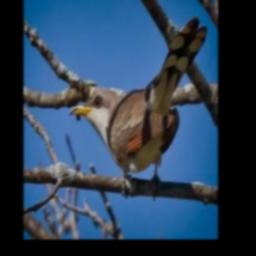Cuckoo: (69, 17, 207, 183)
